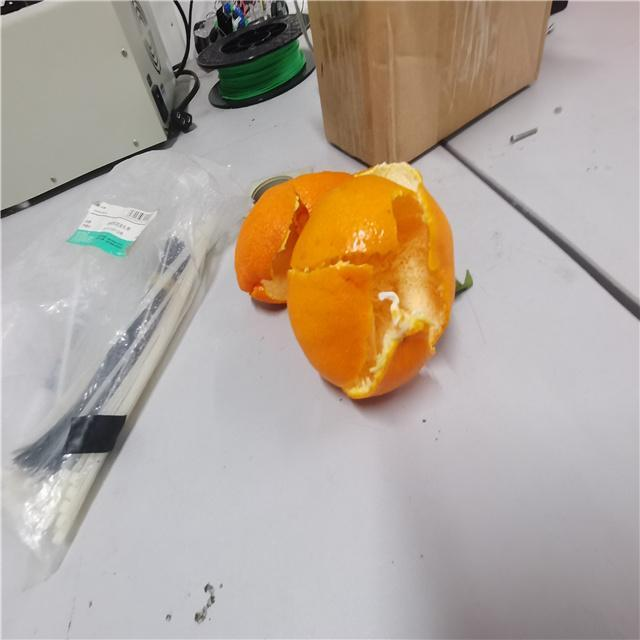orange-peel: (235, 158, 457, 399)
